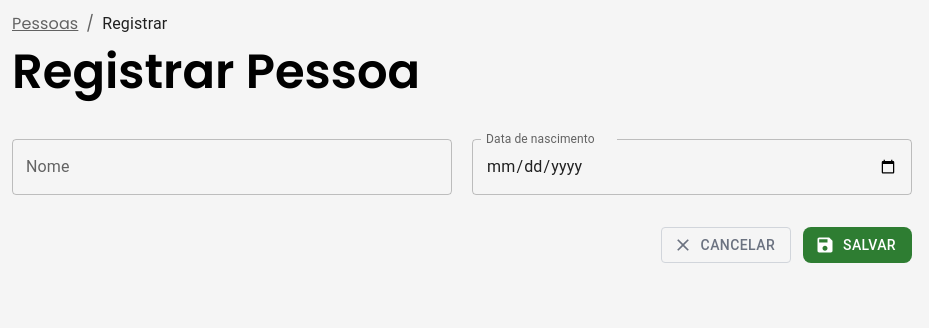
PersonRegisterPage › exibe erro amigável quando cadastro falha
The image size is (929, 328).
Type "Maria Souza" into the field labelled "Nome" at (232, 167), box [12,139,452,195]
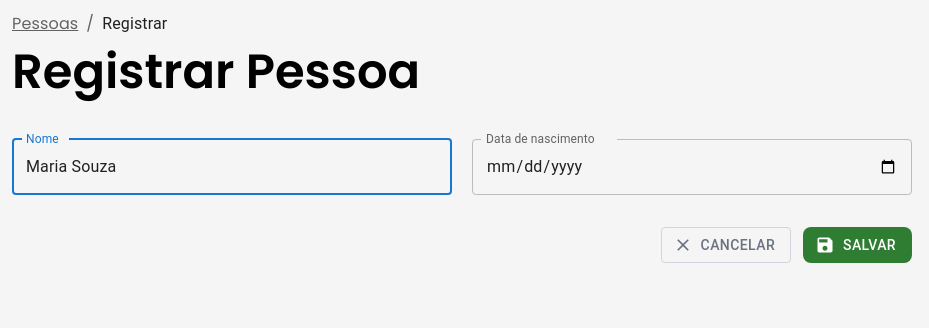
Type "1994-07-18" into the date field labelled "Data de nascimento" at (692, 167), box [472,139,912,195]
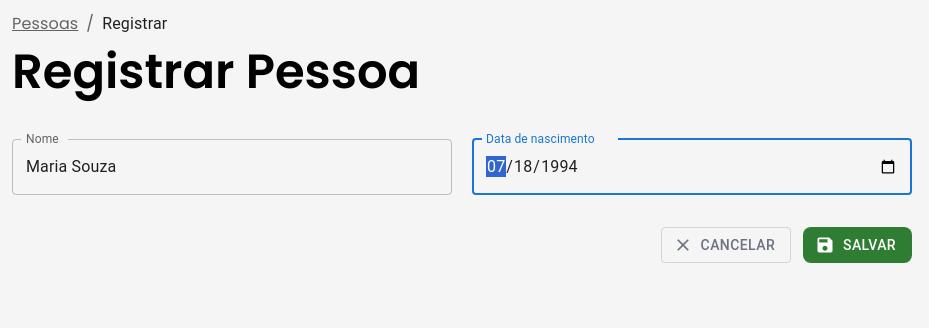
Click the button "SALVAR" at (858, 245), box [803,227,912,263]
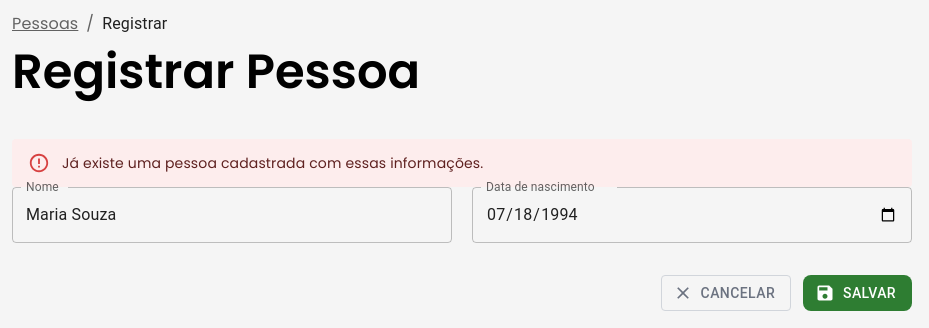
Result: the text "Já existe uma pessoa cadastrada com essas informações." is shown at [62,153,483,173]
